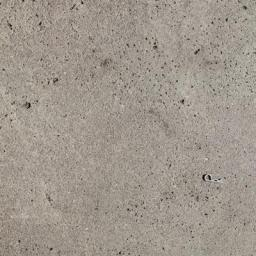FOD: (197, 172, 231, 188)
